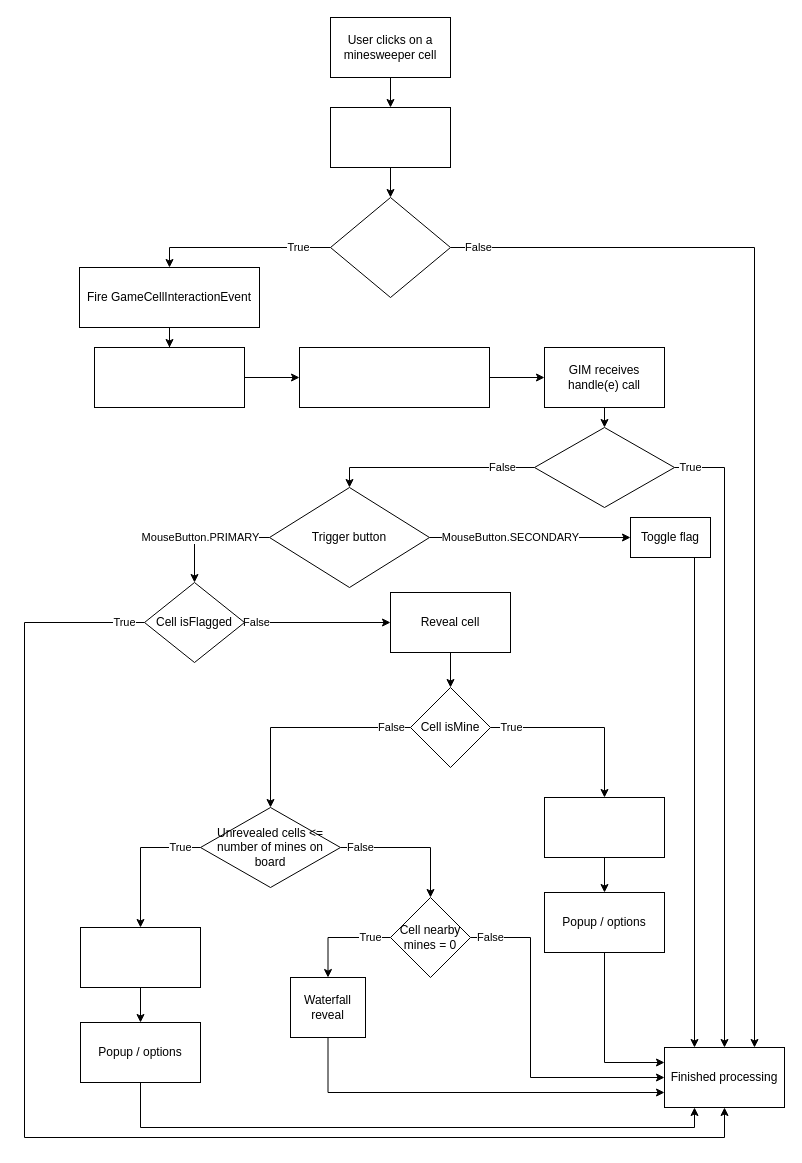
The diagram is 802 pixels wide and 1163 high, and some of its shapes have lost their labels. Each missing label, with the centre of its shape:
"Cell isRevealed" goes at (x=604, y=467).
"Game is lost" goes at (x=604, y=827).
"Game is won" goes at (x=140, y=957).
"GameContainer calls thisInteractionManager.handle(e)" goes at (x=394, y=377).
"GameContainer intercepts GCIE" goes at (x=169, y=377).
"isStillSincePress()" goes at (x=390, y=247).
"MouseEvent is generated at Label" goes at (x=390, y=137).
